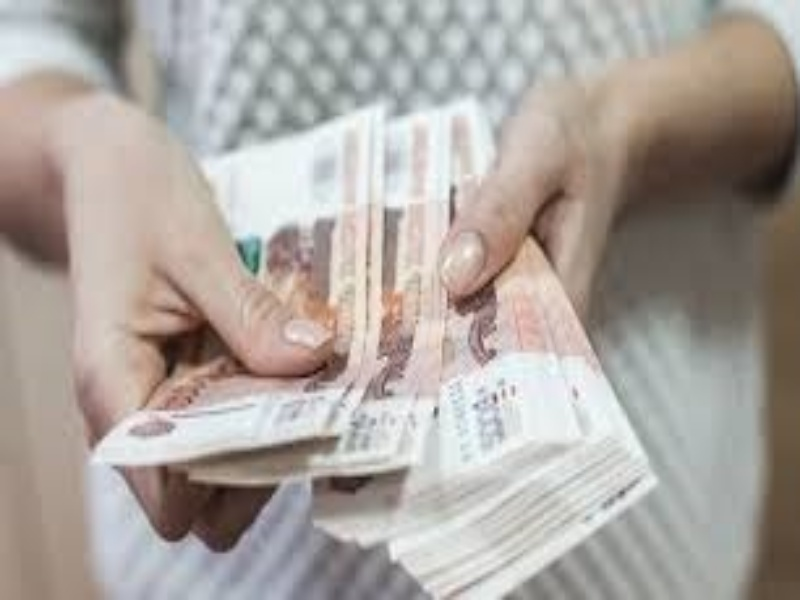cash: (90, 96, 658, 600)
